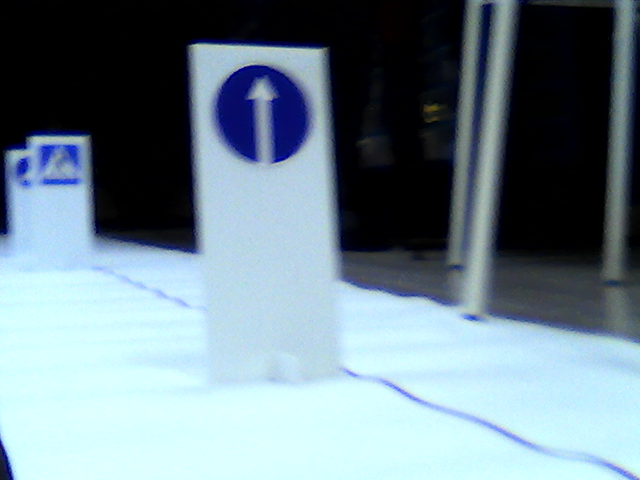forw: (213, 60, 311, 162)
